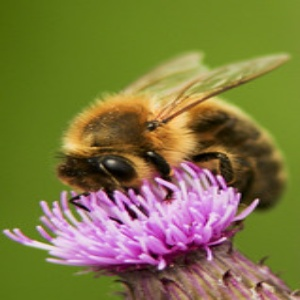bee: (53, 49, 296, 238)
